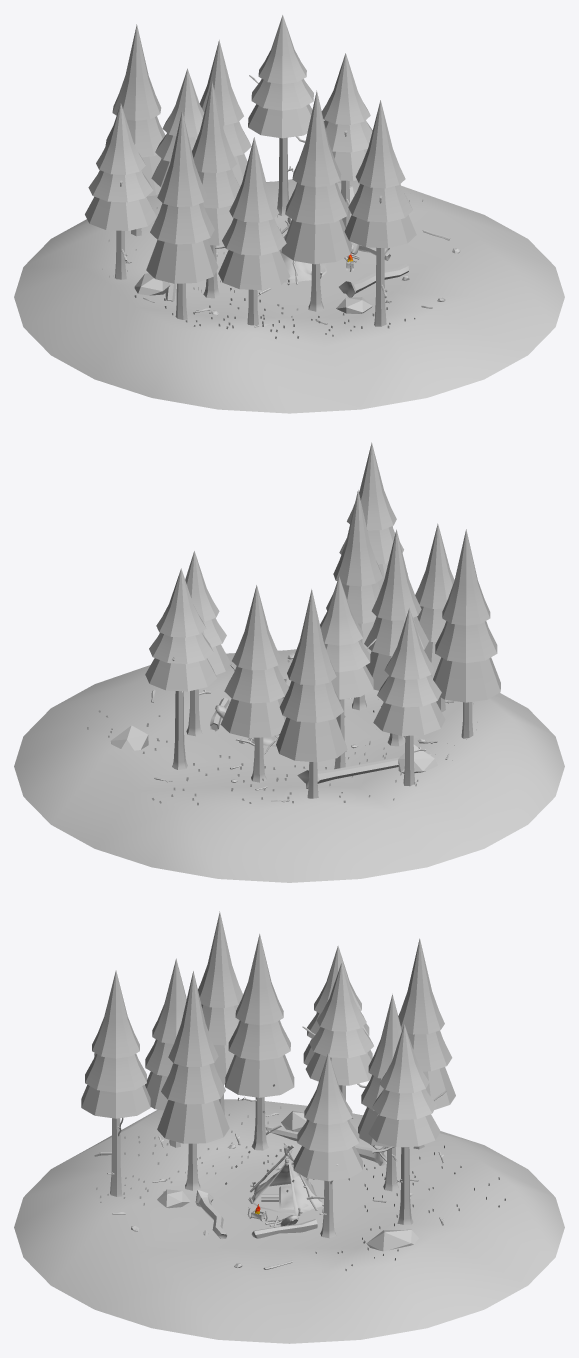
File: forest.obj
3 renders of one model, top to bottom at view 1: azimuth 30°, elevation 25°; view 2: azimuth 150°, elevation 25°; view 3: azimuth 270°, elevation 25°, orthographic.
Visible parts, largest first — view 1: pDisc1_Mesh.293, polySurface130_Mesh.335, polySurface119_Mesh.324, polySurface121_Mesh.326, polySurface132_Mesh.337, polySurface100_Mesh.305, polySurface104_Mesh.309, polySurface128_Mesh.333, polySurface118_Mesh.323, polySurface106_Mesh.311, polySurface120_Mesh.325, polySurface131_Mesh.336 (+24 smaller); view 2: pDisc1_Mesh.293, polySurface98_Mesh.303, polySurface130_Mesh.335, polySurface132_Mesh.337, polySurface100_Mesh.305, polySurface121_Mesh.326, polySurface118_Mesh.323, polySurface147_Mesh.352, polySurface131_Mesh.336, polySurface99_Mesh.304, polySurface145_Mesh.350, polySurface152_Mesh.357 (+20 smaller); view 3: pDisc1_Mesh.293, pCylinder29_Mesh.294, polySurface119_Mesh.324, polySurface116_Mesh.321, polySurface121_Mesh.326, polySurface100_Mesh.305, polySurface132_Mesh.337, polySurface118_Mesh.323, polySurface128_Mesh.333, polySurface120_Mesh.325, polySurface117_Mesh.322, pCube6_Mesh.565 (+26 smaller).
Part boxes in pixels (x1=…): pDisc1_Mesh.293: x1=14, y1=179, x2=564, y2=413; polySurface130_Mesh.335: x1=146, y1=239, x2=218, y2=283; polySurface119_Mesh.324: x1=281, y1=219, x2=351, y2=264; polySurface121_Mesh.326: x1=292, y1=90, x2=341, y2=187; polySurface132_Mesh.337: x1=157, y1=111, x2=207, y2=206; polySurface100_Mesh.305: x1=112, y1=24, x2=161, y2=120; polySurface104_Mesh.309: x1=218, y1=250, x2=290, y2=290; polySurface128_Mesh.333: x1=355, y1=100, x2=405, y2=188; polySurface118_Mesh.323: x1=192, y1=81, x2=236, y2=172; polySurface106_Mesh.311: x1=229, y1=137, x2=279, y2=222; polySurface120_Mesh.325: x1=285, y1=182, x2=348, y2=224; polySurface131_Mesh.336: x1=150, y1=203, x2=214, y2=244; pDisc1_Mesh.293: x1=14, y1=649, x2=564, y2=882; polySurface98_Mesh.303: x1=276, y1=717, x2=347, y2=762; polySurface130_Mesh.335: x1=433, y1=657, x2=500, y2=702; polySurface132_Mesh.337: x1=442, y1=529, x2=490, y2=625; polySurface100_Mesh.305: x1=287, y1=589, x2=336, y2=685; polySurface121_Mesh.326: x1=333, y1=490, x2=382, y2=586; polySurface118_Mesh.323: x1=371, y1=529, x2=421, y2=620; polySurface147_Mesh.352: x1=232, y1=585, x2=281, y2=670; polySurface131_Mesh.336: x1=435, y1=621, x2=497, y2=663; polySurface99_Mesh.304: x1=279, y1=681, x2=343, y2=722; polySurface145_Mesh.350: x1=220, y1=698, x2=286, y2=737; polySurface152_Mesh.357: x1=373, y1=701, x2=445, y2=735; pDisc1_Mesh.293: x1=14, y1=1099, x2=564, y2=1343; pCylinder29_Mesh.294: x1=248, y1=1143, x2=323, y2=1215; polySurface119_Mesh.324: x1=157, y1=1099, x2=229, y2=1143; polySurface116_Mesh.321: x1=225, y1=1054, x2=294, y2=1097; polySurface121_Mesh.326: x1=168, y1=971, x2=218, y2=1066; polySurface100_Mesh.305: x1=398, y1=938, x2=444, y2=1034; polySurface132_Mesh.337: x1=198, y1=911, x2=242, y2=1007; polySurface118_Mesh.323: x1=235, y1=933, x2=283, y2=1025; polySurface128_Mesh.333: x1=92, y1=970, x2=139, y2=1058; polySurface120_Mesh.325: x1=161, y1=1063, x2=225, y2=1104; polySurface117_Mesh.322: x1=228, y1=1020, x2=290, y2=1060; pCube6_Mesh.565: x1=131, y1=1110, x2=418, y2=1267.
Bounding box in the file's own units: 3 × 1.56 × 3.
